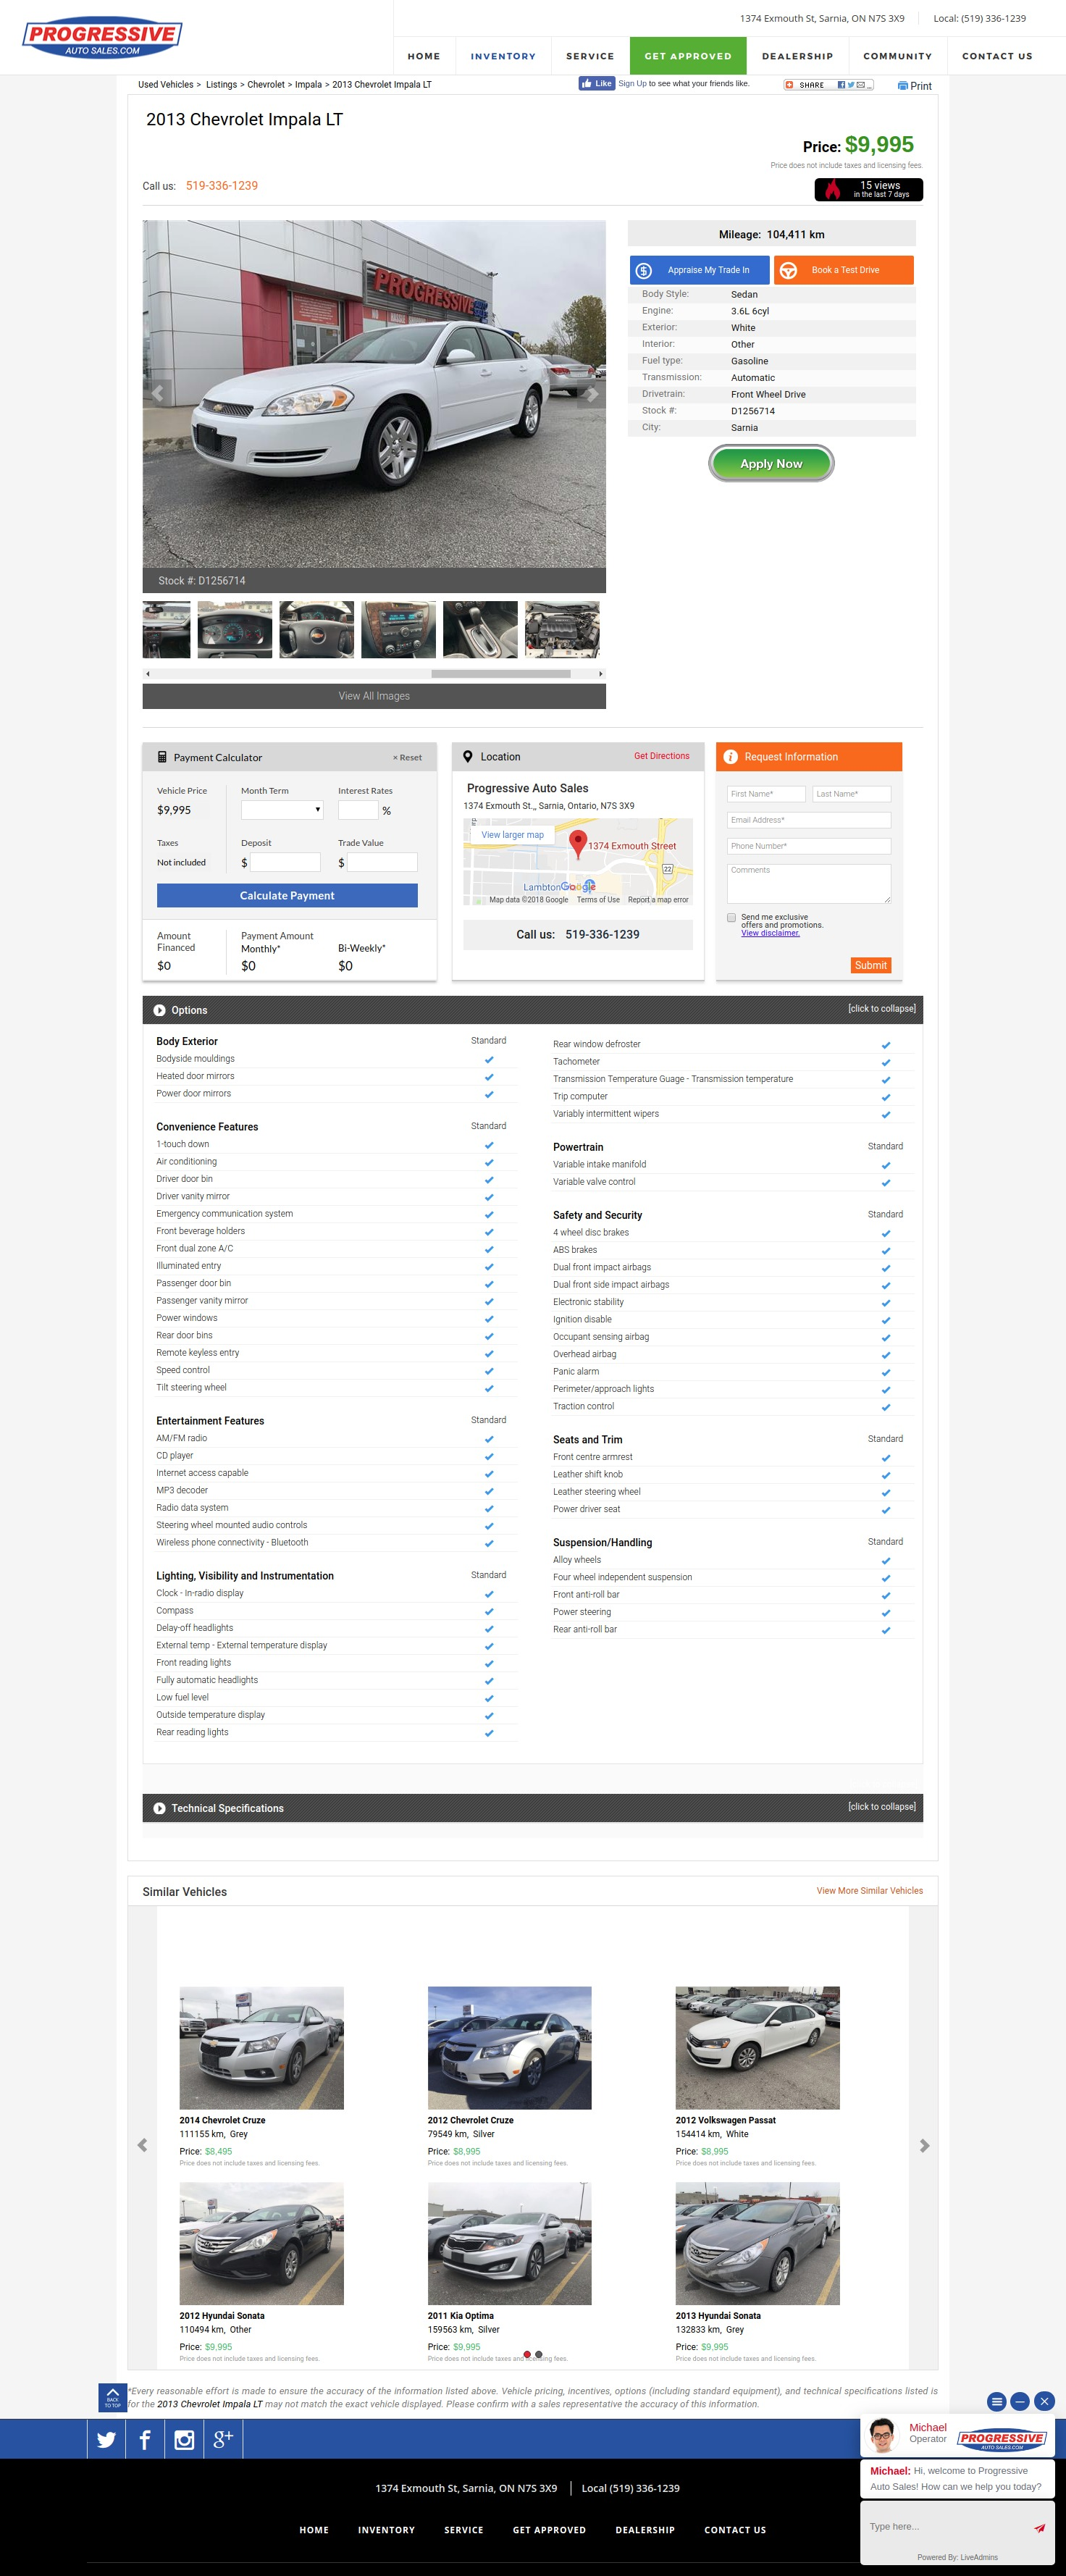car: (600, 672, 604, 677)
